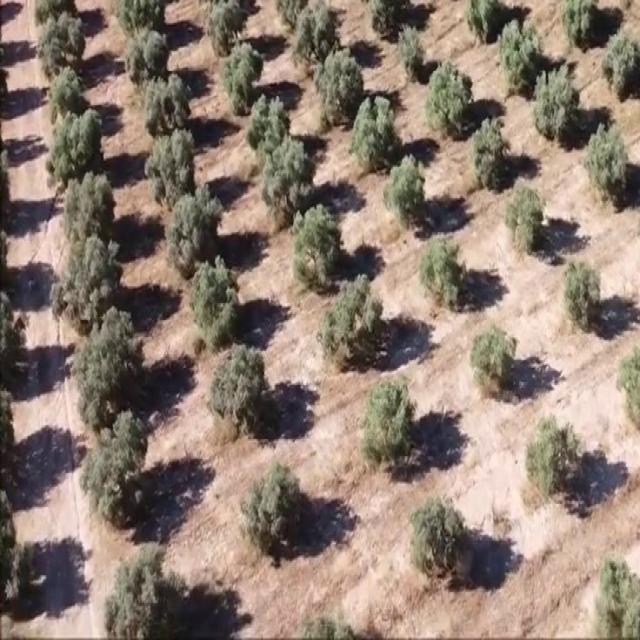trees: (81, 409, 152, 524), (49, 232, 123, 333), (76, 310, 144, 417), (107, 542, 181, 640), (316, 274, 391, 369), (164, 176, 229, 274), (521, 408, 585, 507), (244, 461, 310, 556), (208, 336, 270, 436), (362, 375, 420, 474), (186, 255, 246, 347), (292, 196, 347, 296), (465, 320, 525, 405), (46, 104, 110, 182), (411, 491, 467, 580), (62, 171, 121, 253), (412, 232, 472, 309), (421, 62, 478, 143), (581, 117, 632, 206), (312, 48, 370, 126), (265, 129, 316, 216), (351, 89, 403, 173), (146, 126, 200, 204), (143, 64, 198, 138), (529, 68, 581, 140), (388, 150, 433, 233), (467, 112, 514, 191), (295, 0, 342, 79), (560, 253, 607, 331), (503, 175, 547, 254), (494, 18, 540, 93), (221, 39, 267, 112), (248, 91, 295, 160), (39, 12, 86, 81), (124, 30, 176, 86), (599, 31, 640, 100), (46, 57, 87, 120), (205, 0, 248, 56), (560, 0, 599, 53)
